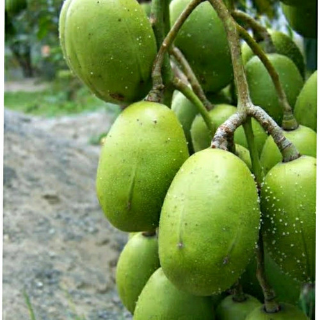coc: (158, 148, 261, 296)
